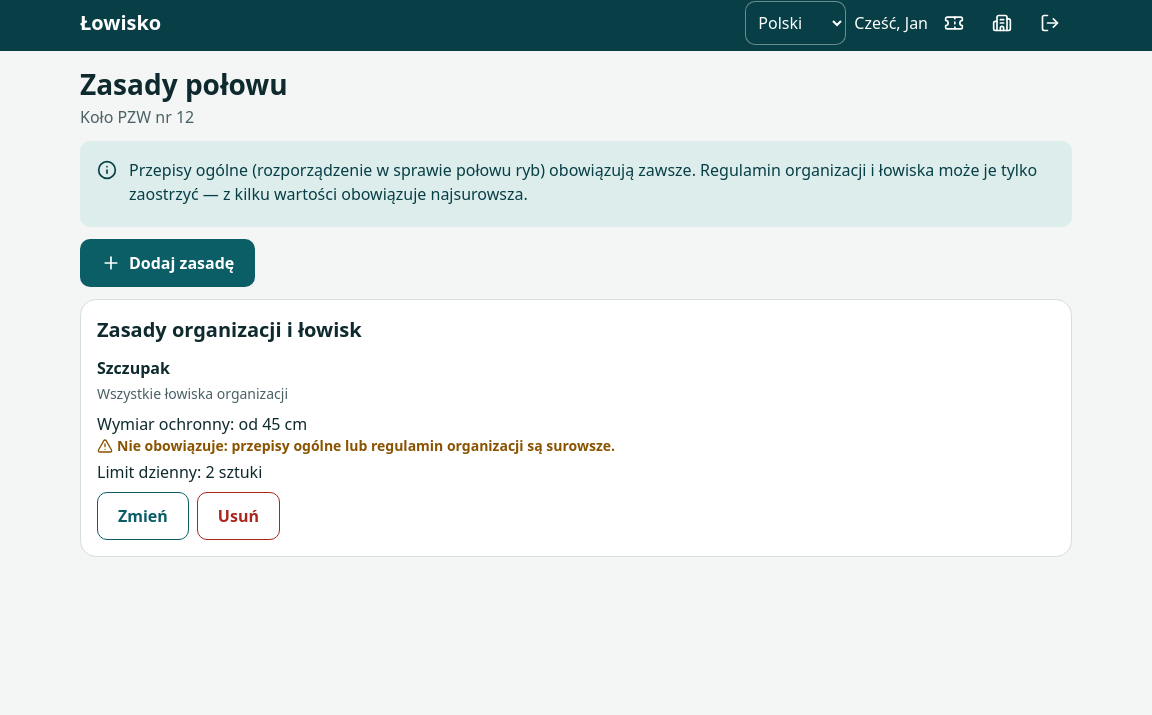
Test: organization rules page › changes the parameters of a rule, a cleared field removing the limit
Click the button with aria-label "Zmień zasadę: Szczupak" at (143, 516), box [97, 492, 189, 540]
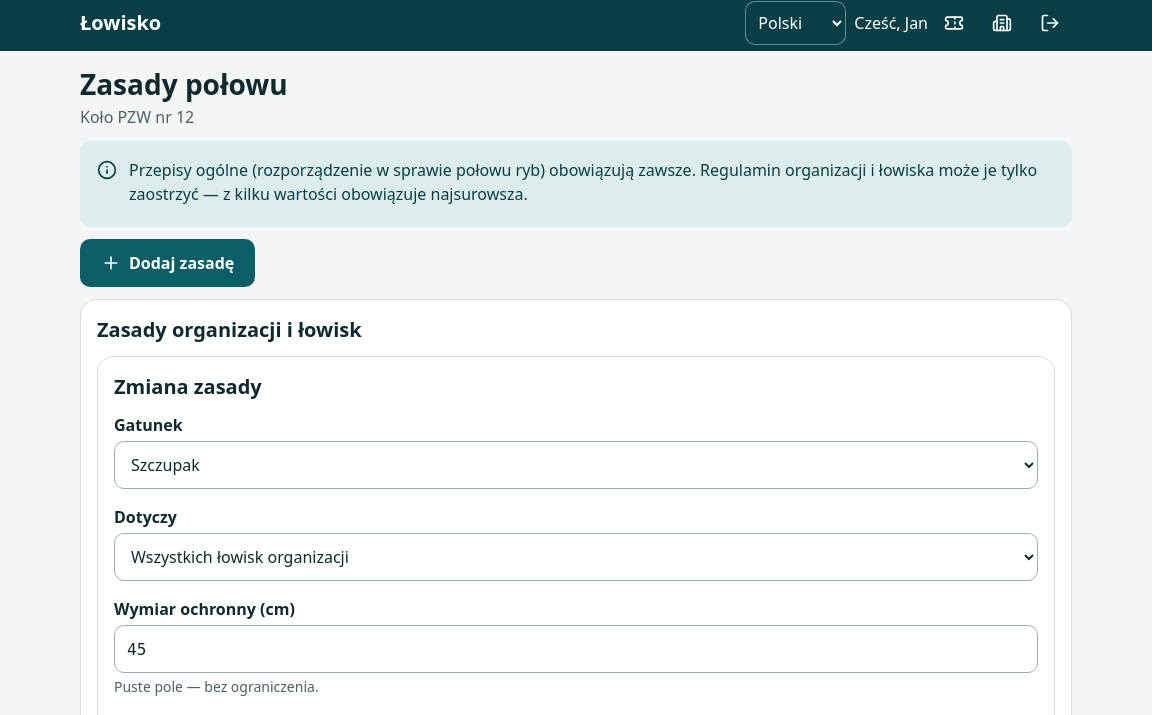
Now the dropdown labelled "Gatunek" is disabled, box [114, 441, 1038, 489]
Now the dropdown labelled "Dotyczy" is disabled, box [114, 533, 1038, 581]
Replace the text in the field labelled "Wymiar ochronny (cm)" with "60" at (576, 649), box [114, 625, 1038, 673]
(page scrolled)
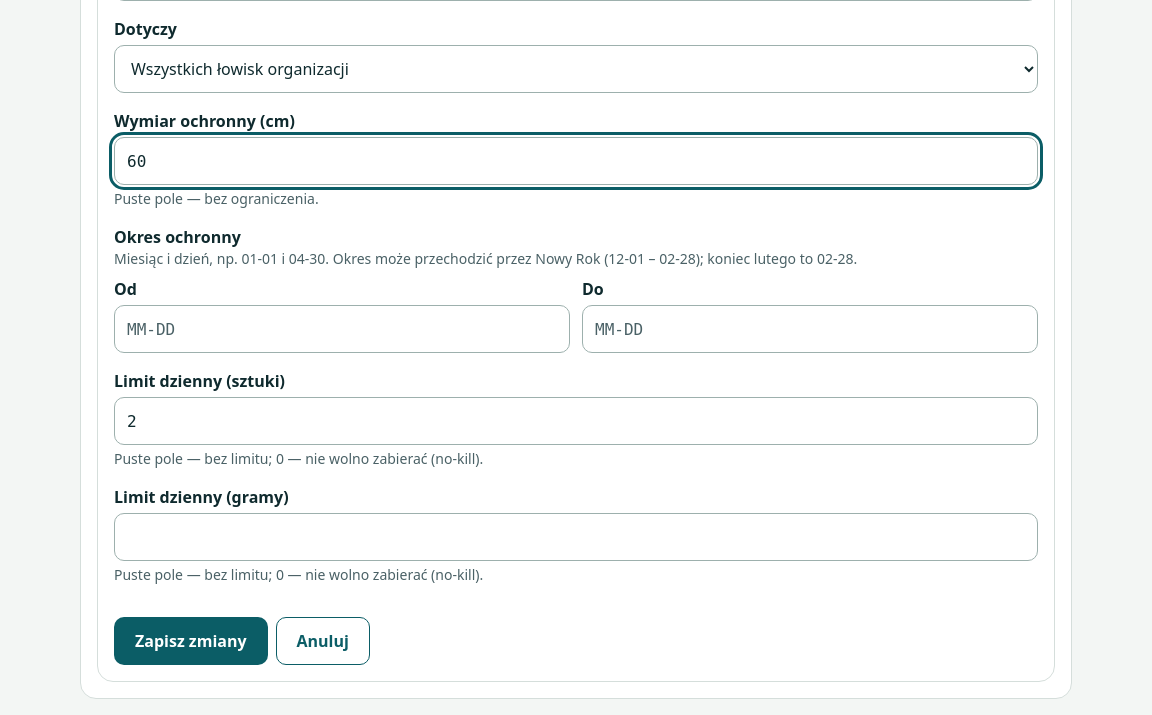
Clear the field labelled "Limit dzienny (sztuki)" at (576, 421), box [114, 397, 1038, 445]
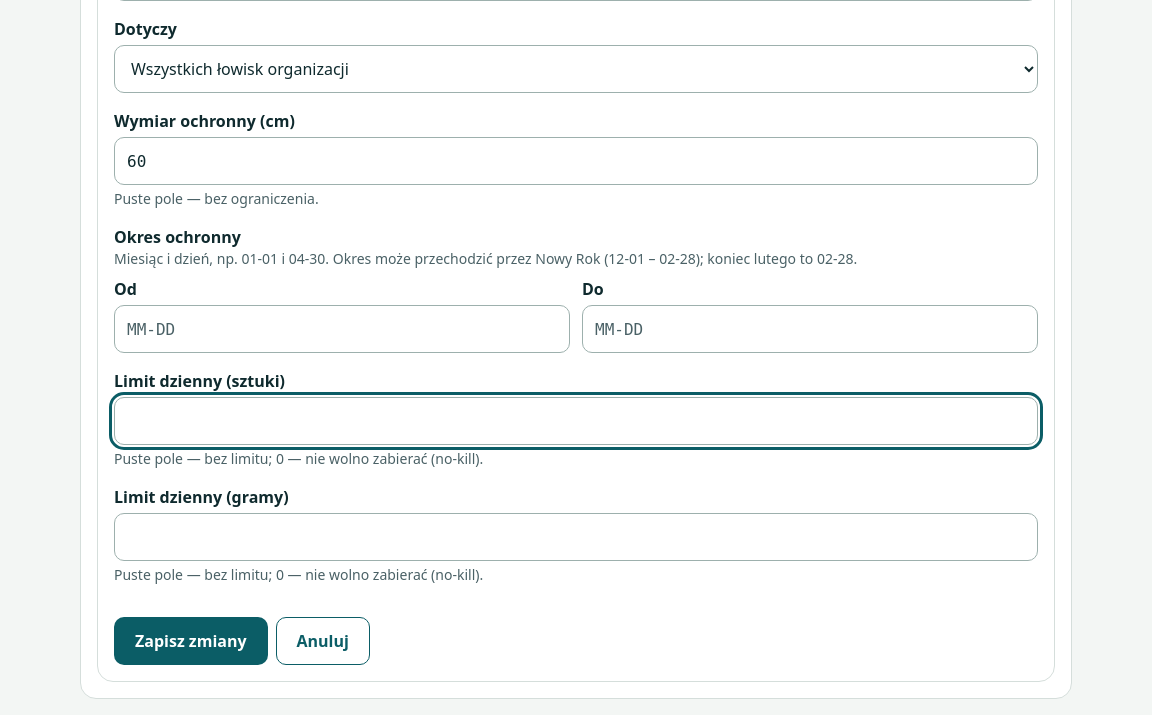
Click the button "Zapisz zmiany" at (191, 641), box [114, 617, 268, 665]
(page scrolled)
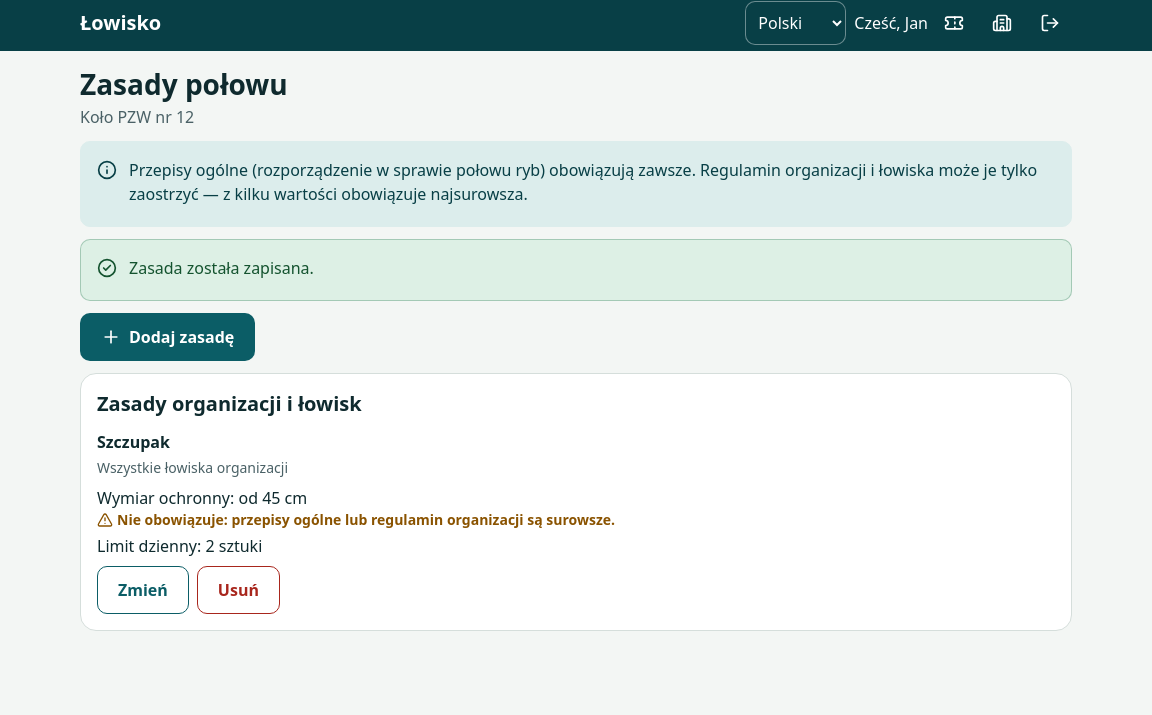
Now the text "Zasada została zapisana." is shown, box [129, 257, 314, 279]
